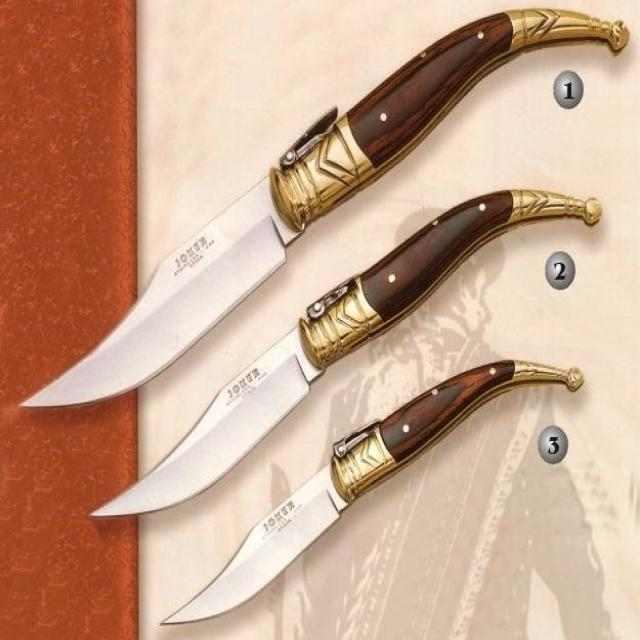knife: (11, 2, 637, 421), (82, 191, 609, 525), (157, 358, 588, 631)
